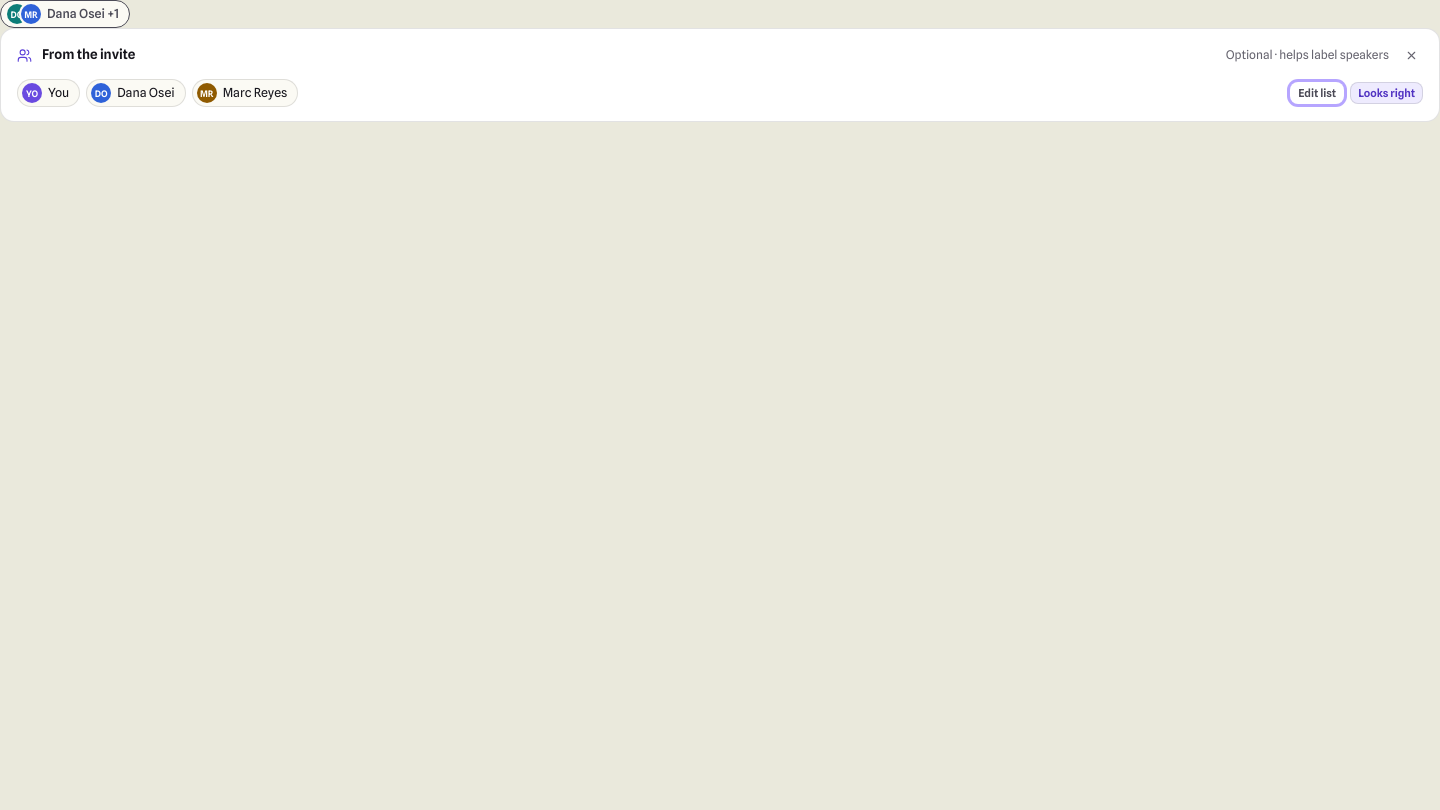
it: speaker card › opens the editor on 'Edit list' without confirming anything
Step 1. Click the button "Edit list" → (1317, 93), box [1290,82,1344,104]
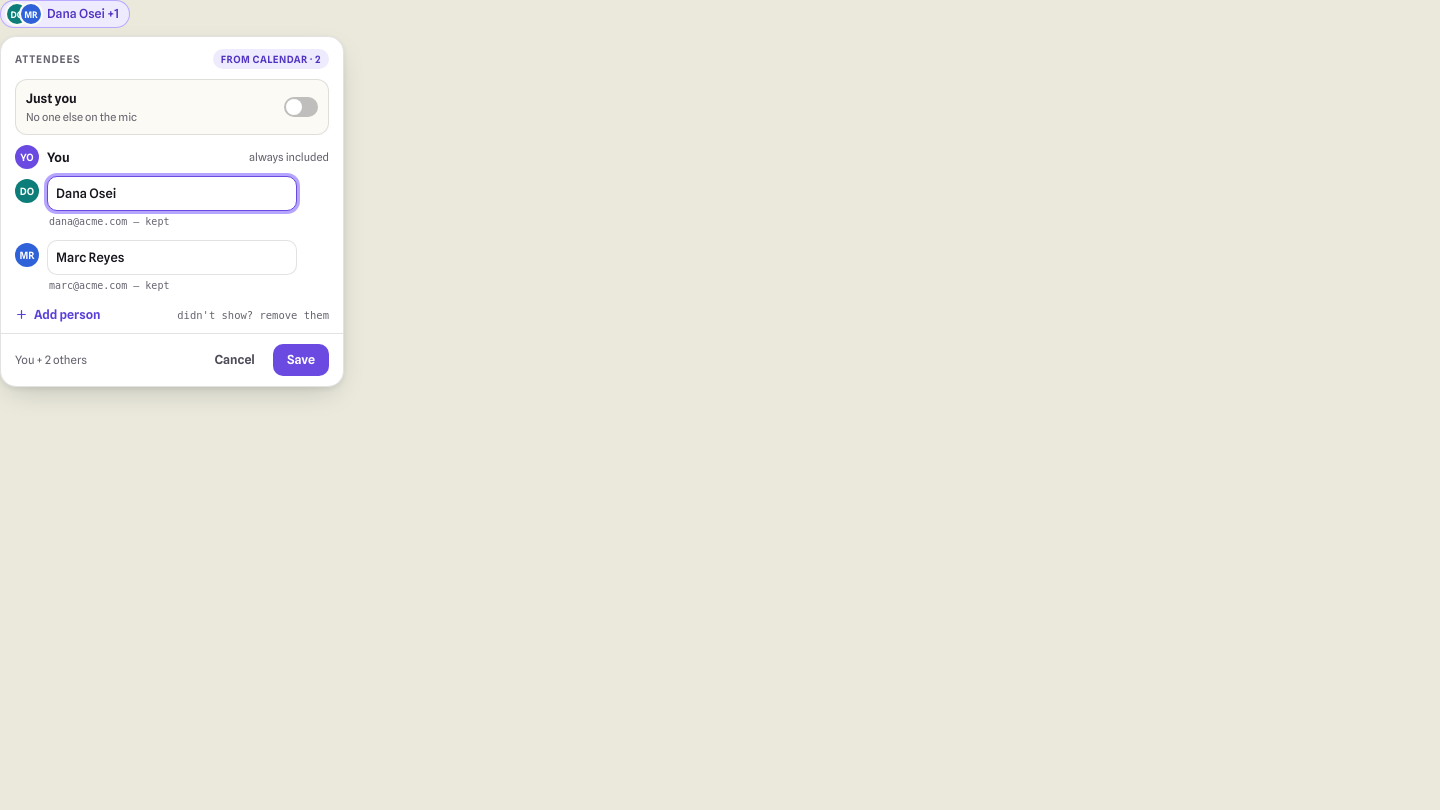
Now the dialog named "Attendees" is shown, box [0,36,344,387]
Now the number of fields is 2, box [47,176,297,211]; [47,240,297,275]
